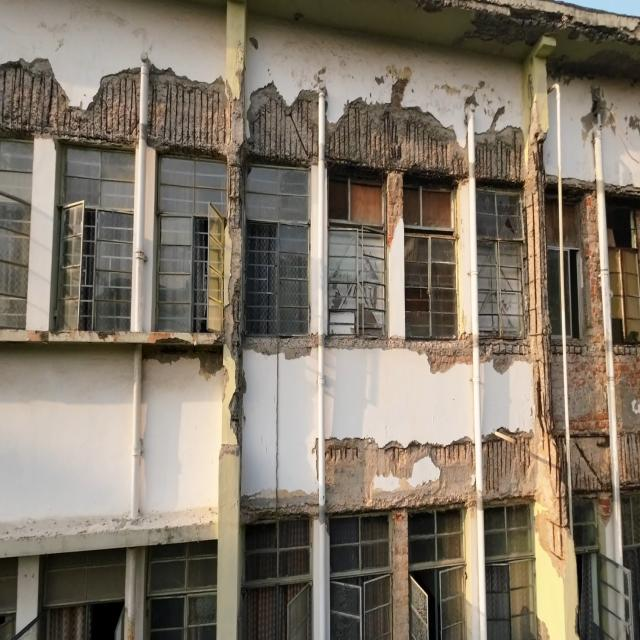spalling: (148, 65, 318, 204), (216, 0, 247, 639), (475, 126, 551, 370), (325, 99, 468, 187), (0, 60, 139, 147), (326, 439, 474, 514), (569, 196, 609, 434), (325, 329, 470, 369), (482, 429, 539, 503), (571, 430, 609, 492), (614, 344, 640, 431), (244, 331, 317, 356), (620, 431, 640, 489), (551, 340, 561, 433)
stain_mould: (147, 332, 174, 344), (28, 331, 48, 343)
